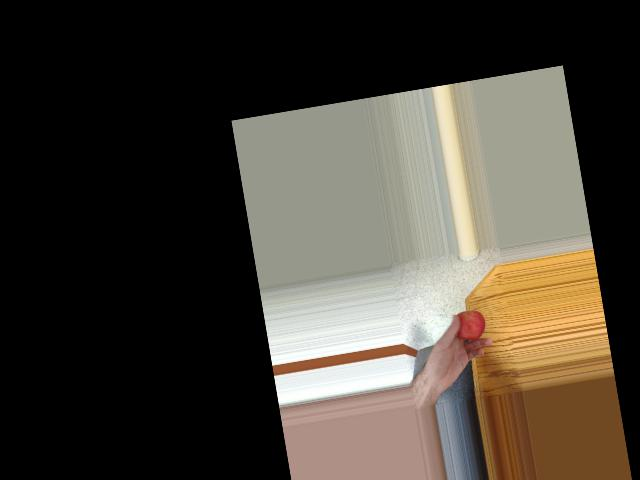apple: (452, 305, 488, 344)
